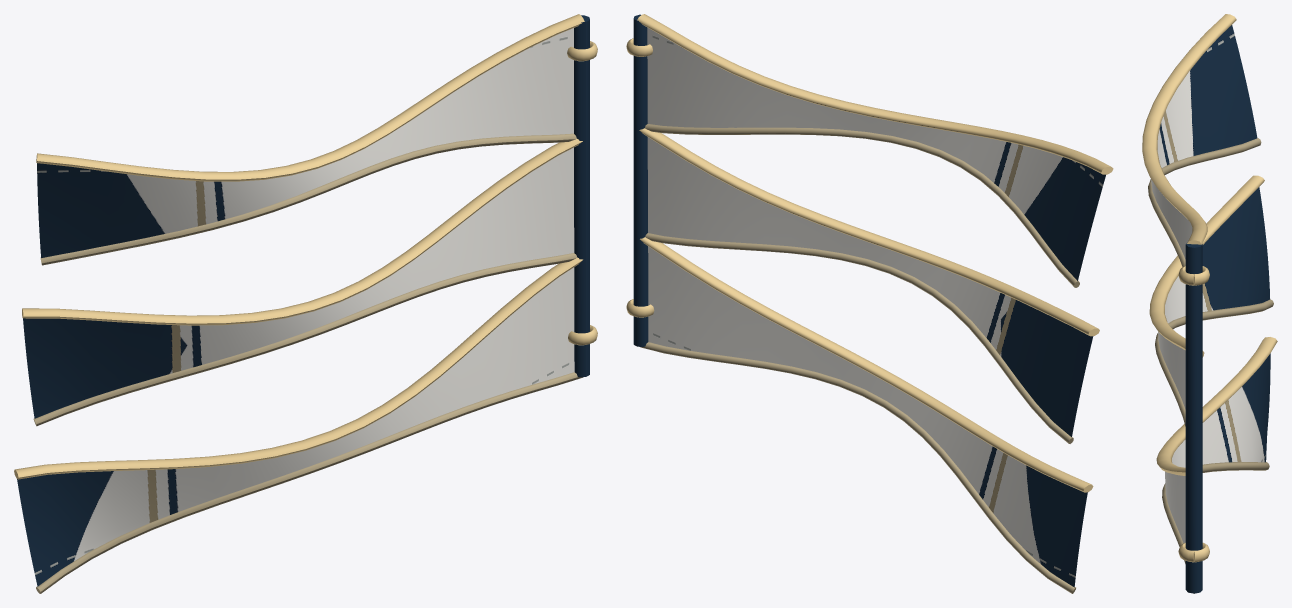
File: Pennant_29_UR_象牙・淡金環.glb
The picture shows the model from 3 angles, left to right: view 1: azimuth 30°, elevation 25°; view 2: azimuth 150°, elevation 25°; view 3: azimuth 270°, elevation 25°; orthographic projection. The views are drawn at different scales.
Parts seen in each view (by area): view 1: Pennant_29_UR; view 2: Pennant_29_UR; view 3: Pennant_29_UR.
Part boxes in pixels (x1,y1,x2,y2): Pennant_29_UR: (14, 14, 597, 593); Pennant_29_UR: (626, 14, 1113, 593); Pennant_29_UR: (1142, 14, 1277, 593).
Size of the model in its own units: 0.2885 by 0.2442 by 0.0639.
Materials: 3 (3 with a texture image).
